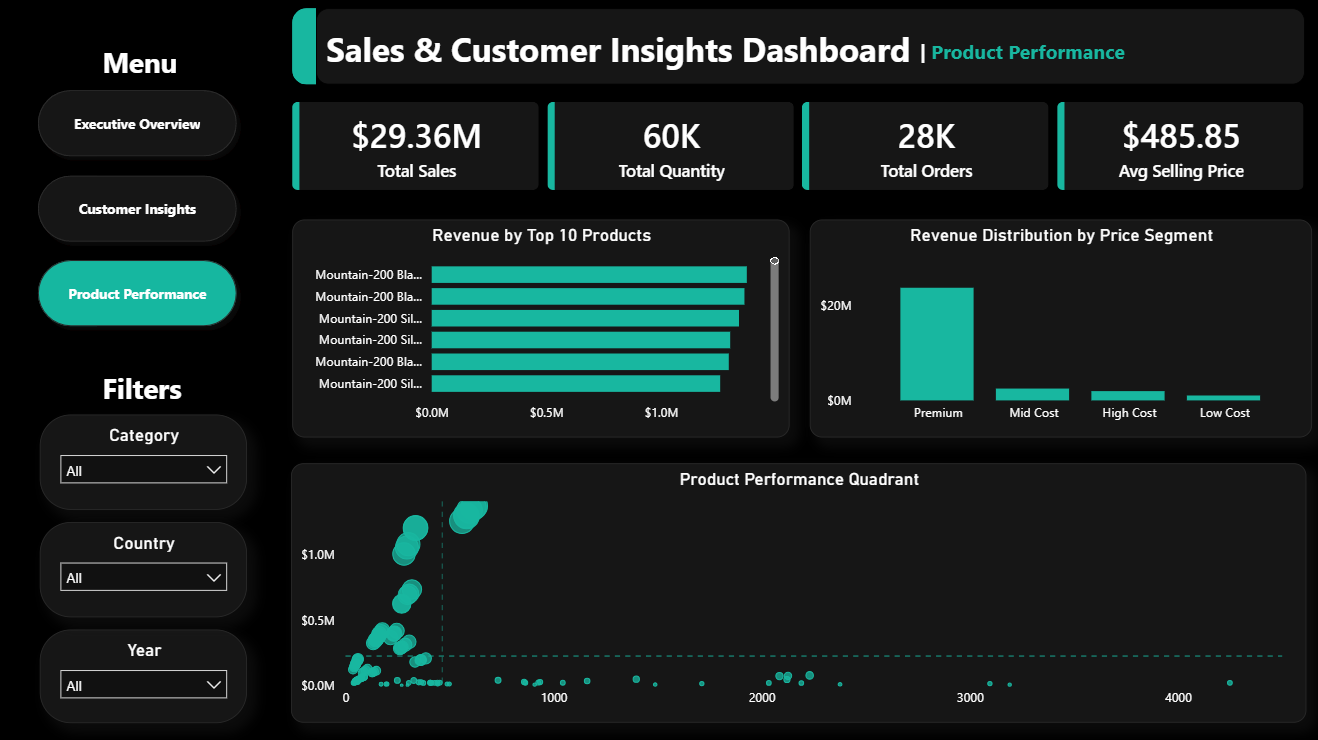

The dashboard page shown, as its layout file describes it:
{"tool":"powerbi","page":{"name":"Product Performance","canvas":[1280,720],"ordinal":2},"visuals":[{"type":"slicer","title":"Year","fields":{"Values":["DateTable.Year"]},"box":[42.2,610.9,200.3,90.5],"z":0},{"type":"slicer","title":"Category","fields":{"Values":["gold dim_products.category"]},"box":[42.2,403.4,200.3,91.7],"z":1000},{"type":"slicer","title":"Country","fields":{"Values":["gold dim_customers.country"]},"box":[42.2,507.2,200.3,91.7],"z":2000},{"type":"textbox","box":[308.8,10.9,954.3,73.6],"z":3000},{"type":"shape","box":[285.9,10.9,22.9,73.6],"z":4000},{"type":"textbox","box":[97.7,355.2,143.6,152],"z":5000},{"type":"pageNavigator","box":[31.8,80.7,210.3,247],"z":6000},{"type":"textbox","box":[97.7,39.8,302.8,360.7],"z":7000},{"type":"cardVisual","fields":{"Data":["dax_measures.Total Sales","dax_measures.Total Quantity","dax_measures.Total Orders","dax_measures.Avg Selling Price"]},"box":[269,84.5,1011,119.4],"z":11001},{"type":"scatterChart","title":"Product Performance Quadrant","fields":{"X":["dax_measures.Total Quantity"],"Y":["dax_measures.Total Sales"],"Size":["dax_measures.Total Sales"],"Category":["gold dim_products.product_name"]},"box":[285,450,980,250],"z":11002},{"type":"columnChart","title":"Revenue Distribution by Price Segment","fields":{"Category":["gold dim_products.Product Value Segment"],"Y":["dax_measures.Total Sales"]},"box":[785,215,485,210],"z":11003},{"type":"barChart","title":"Revenue by Top 10 Products","fields":{"Category":["gold dim_products.product_name"],"Y":["dax_measures.Total Sales"]},"box":[285.9,215,480,210],"z":11004}]}

Visuals, with their boxes in screenshot pixels (x1, y1, x2, y2), scaled from the page's 1280x720 canvas onto the 1318x740 screenshot:
"Year" slicer: region(43, 628, 250, 721)
"Category" slicer: region(43, 415, 250, 509)
"Country" slicer: region(43, 521, 250, 616)
textbox: region(318, 11, 1301, 87)
shape: region(294, 11, 318, 87)
textbox: region(101, 365, 248, 521)
pageNavigator: region(33, 83, 249, 337)
textbox: region(101, 41, 412, 412)
cardVisual - dax_measures.Total Sales x dax_measures.Total Quantity: region(277, 87, 1317, 210)
"Product Performance Quadrant" scatterChart: region(293, 462, 1303, 719)
"Revenue Distribution by Price Segment" columnChart: region(808, 221, 1308, 437)
"Revenue by Top 10 Products" barChart: region(294, 221, 789, 437)
